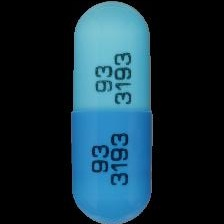68788-6400: (0, 0, 224, 224)
